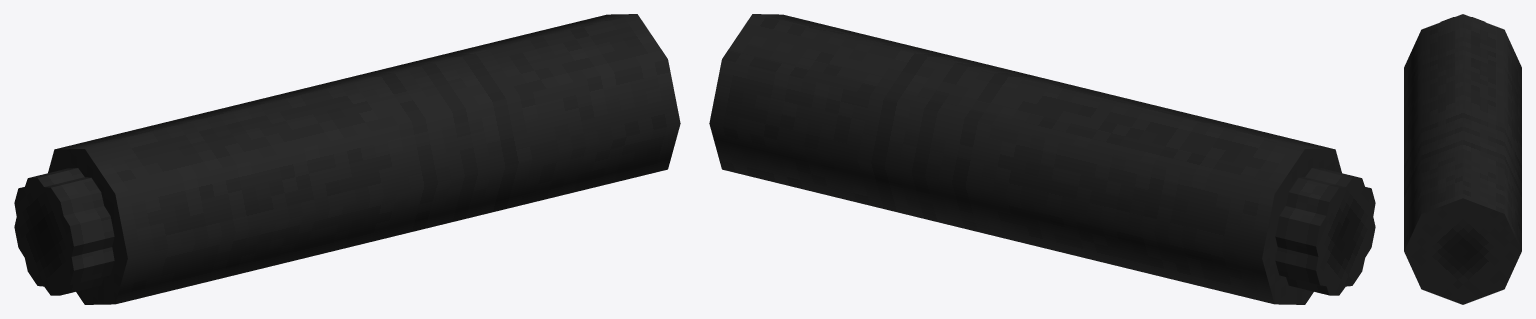
Rendered from suppressor_mp_1.glb.
The picture shows the model from 3 angles, left to right: view 1: azimuth 30°, elevation 25°; view 2: azimuth 150°, elevation 25°; view 3: azimuth 270°, elevation 25°; orthographic projection. The views are drawn at different scales.
Parts seen in each view (by area): view 1: suppressor_mp_1; view 2: suppressor_mp_1; view 3: suppressor_mp_1.
Boxes of the visible parts, box(x1,y1,x2,y2) form: suppressor_mp_1: box(14, 14, 680, 304); suppressor_mp_1: box(709, 14, 1375, 304); suppressor_mp_1: box(1404, 14, 1521, 304).
Size of the model in its own units: 0.175 by 0.044 by 0.044.
Materials: 1 (1 with a texture image).
